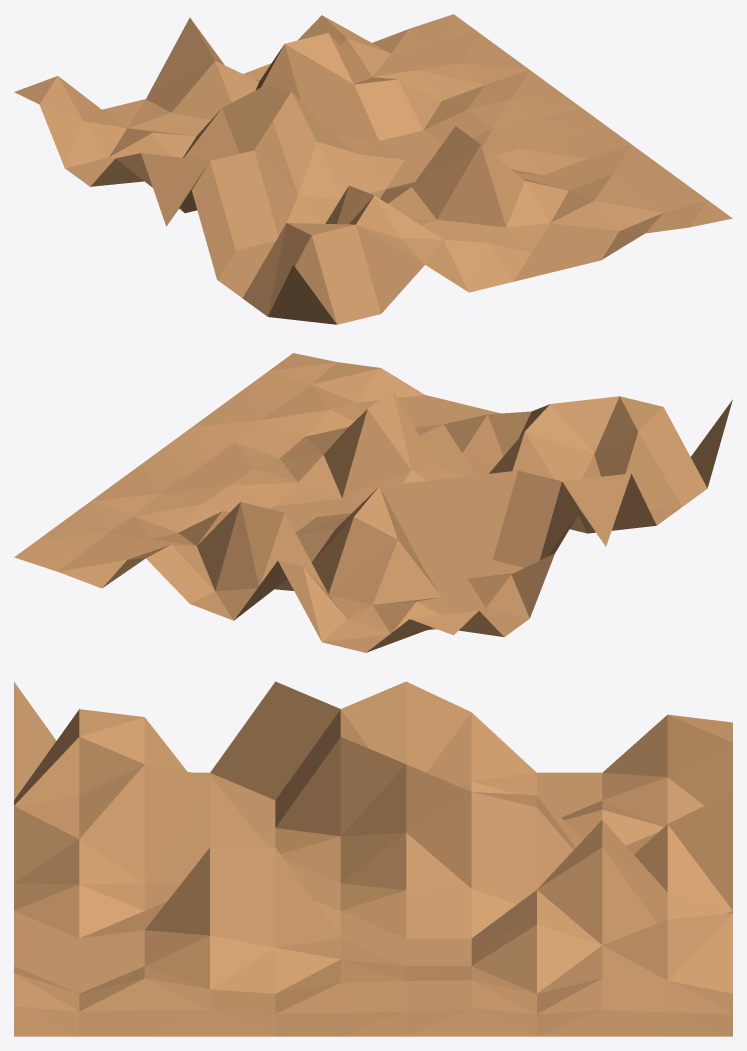
File: mountains_2.dae
The picture shows the model from 3 angles, top to bottom: view 1: azimuth 30°, elevation 25°; view 2: azimuth 150°, elevation 25°; view 3: azimuth 270°, elevation 25°; orthographic projection. The views are drawn at different scales.
Parts seen in each view (by area): view 1: Landscape_002; view 2: Landscape_002; view 3: Landscape_002.
Part boxes in pixels (x1,y1,x2,y2): Landscape_002: [14, 14, 732, 324]; Landscape_002: [14, 353, 732, 652]; Landscape_002: [14, 681, 732, 1036].
Size of the model in its own units: 135 by 148 by 20.77.
